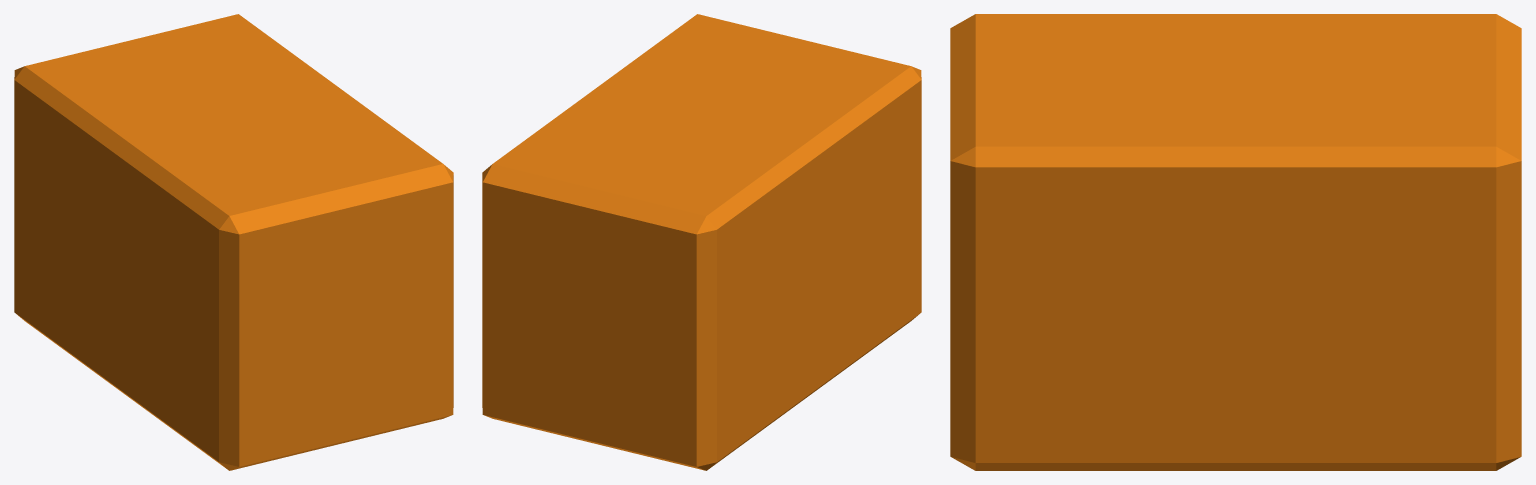
Rendered from drawer.glb.
3 renders of one model, left to right at view 1: azimuth 30°, elevation 25°; view 2: azimuth 150°, elevation 25°; view 3: azimuth 270°, elevation 25°, orthographic. The views are drawn at different scales.
Visible parts, largest first — view 1: Drawer; view 2: Drawer; view 3: Drawer.
Part boxes in pixels (bbox=[...]): Drawer: bbox=[14, 14, 453, 470]; Drawer: bbox=[482, 14, 921, 470]; Drawer: bbox=[950, 14, 1521, 470].
Size of the model in its own units: 1.21 by 1.25 by 2.
